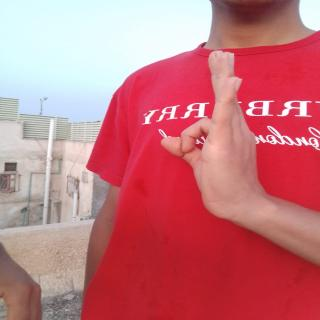Space: (152, 44, 276, 218)
